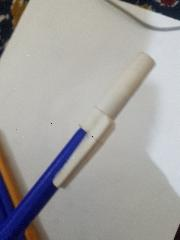plastic: (0, 31, 168, 240)
